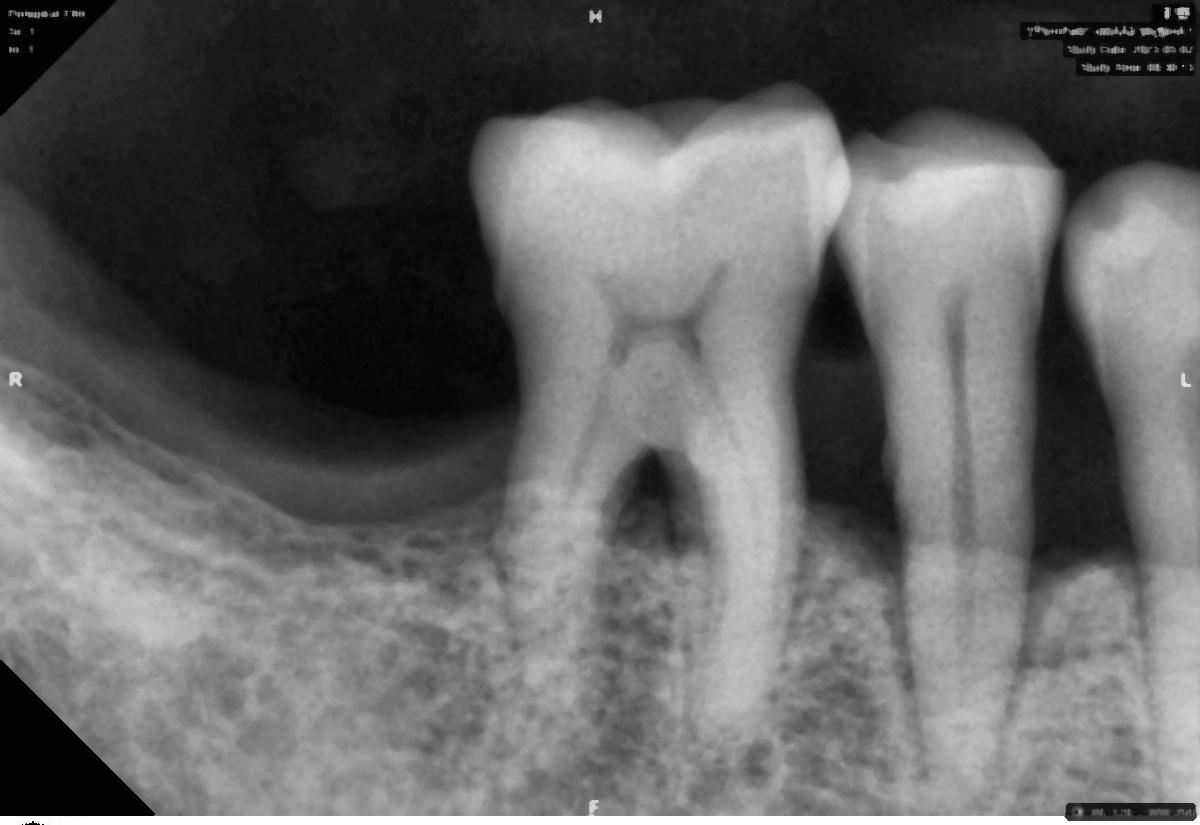Individual Tooth: (471, 87, 851, 736), (837, 112, 1064, 810), (1064, 164, 1200, 798)
